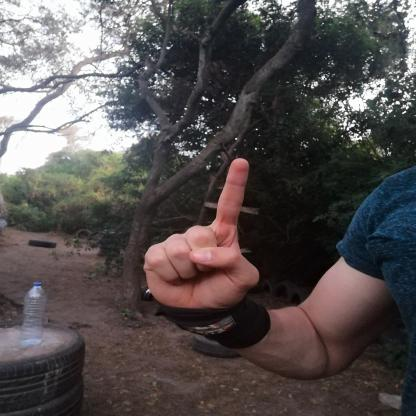BAA: (121, 150, 282, 328)
